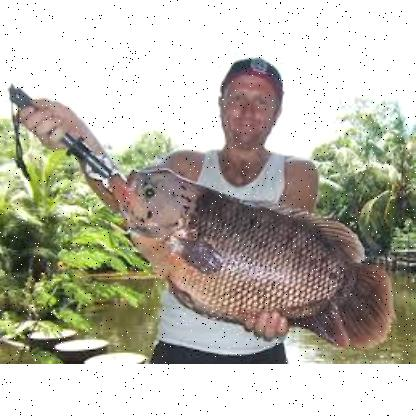gurame: (107, 161, 392, 349)
